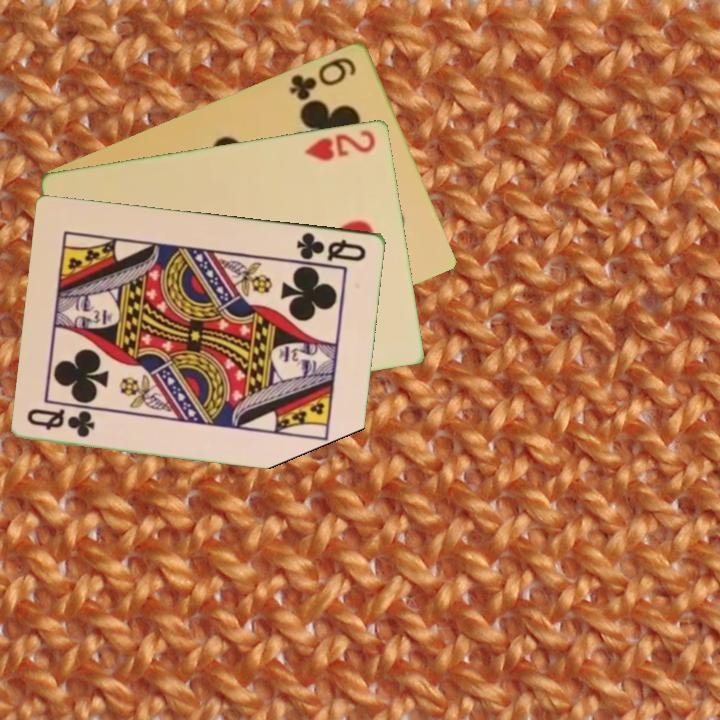2h: (301, 126, 379, 164)
6c: (286, 53, 360, 103)
Qc: (293, 228, 369, 264), (23, 404, 98, 440)
